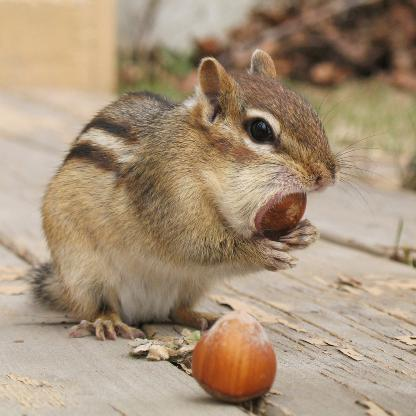Squirrel: (18, 47, 400, 340)
